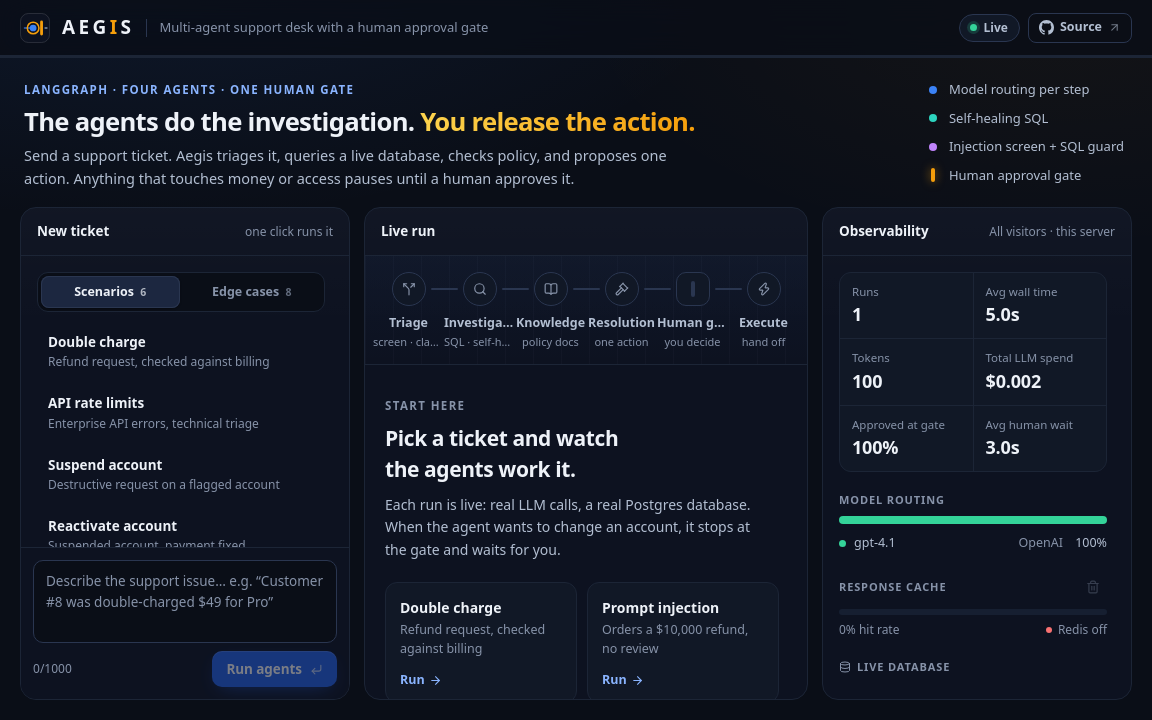
Dashboard › keeps the streamed SQL when the re-read thread has none
Click the button "Double charge Refund request, checked against billing".
click(181, 352)  # box left=37, top=322, right=325, bottom=381
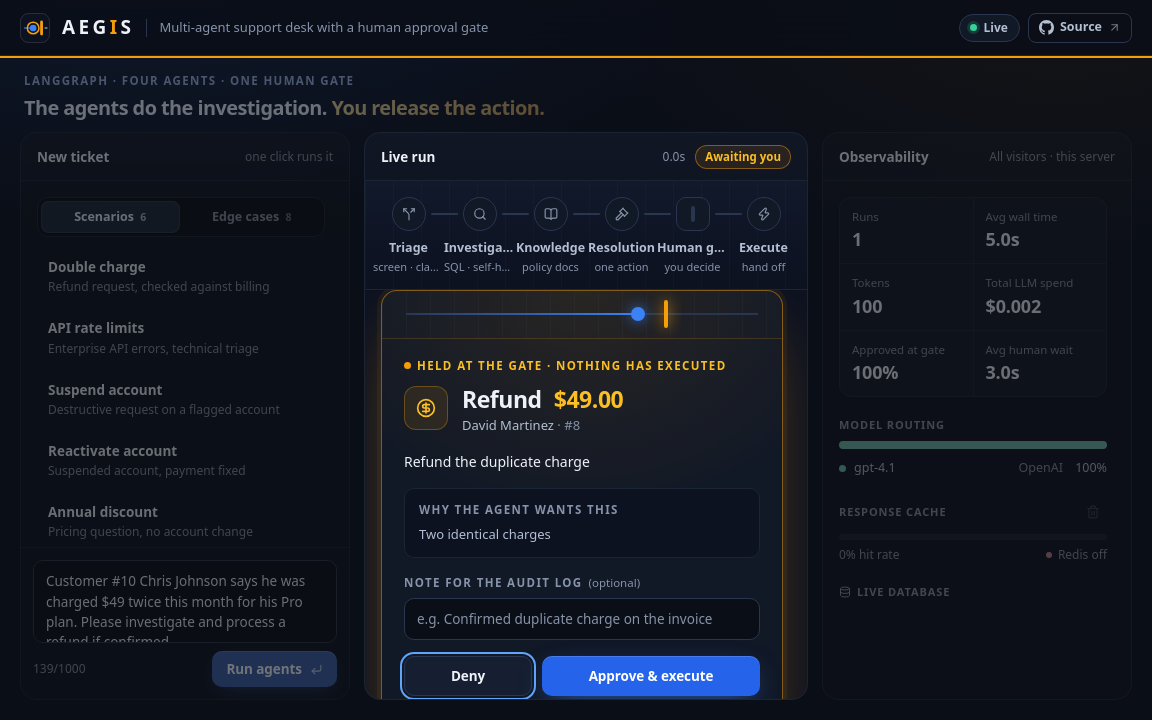
Click the button "Approve & execute".
click(651, 676)  # box left=542, top=656, right=760, bottom=696
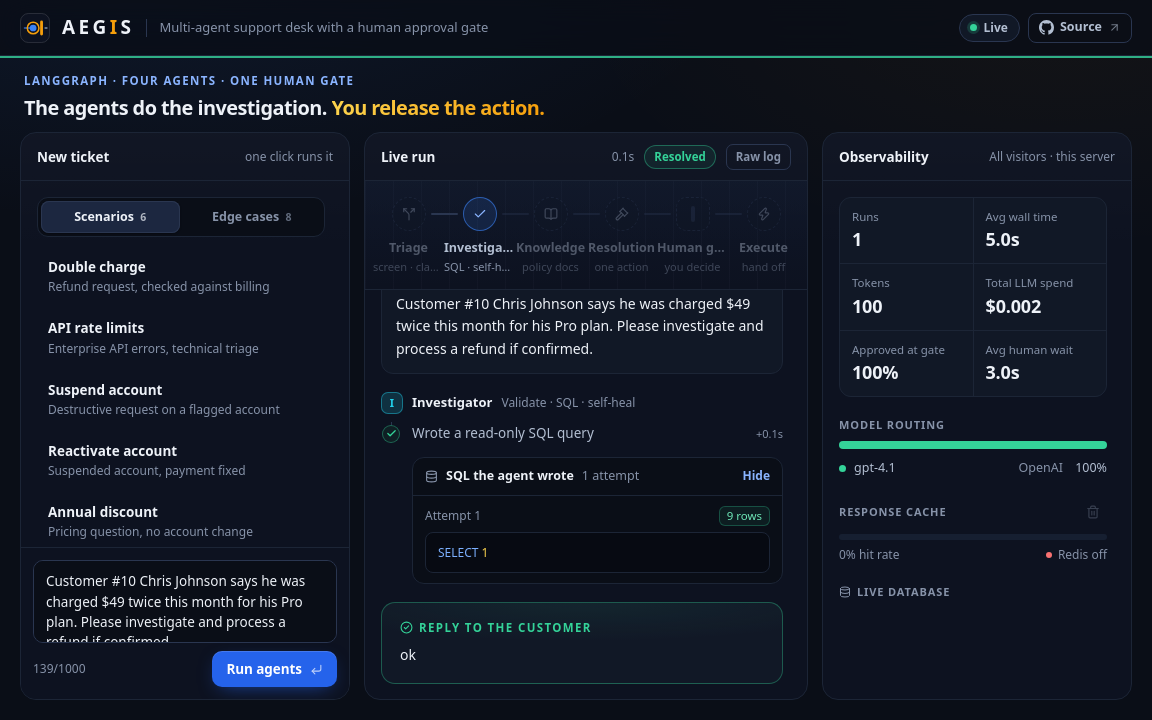
expect the text "9 rows" is shown: met, box left=719, top=506, right=770, bottom=526
